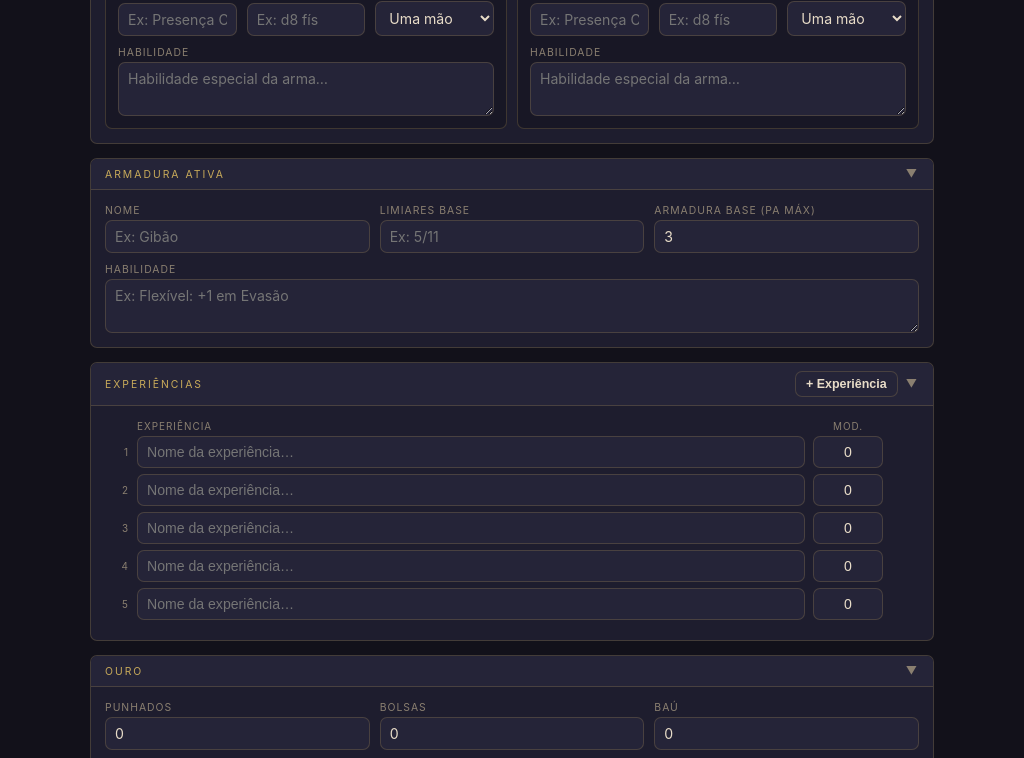
Test: FormScreen — experiências › + Experiência adiciona linha extra marcada com ★
This screenshot has width=1024, height=758.
(page scrolled)
Click the button "+ Experiência": (846, 384) x1=795 y1=371 x2=898 y2=397
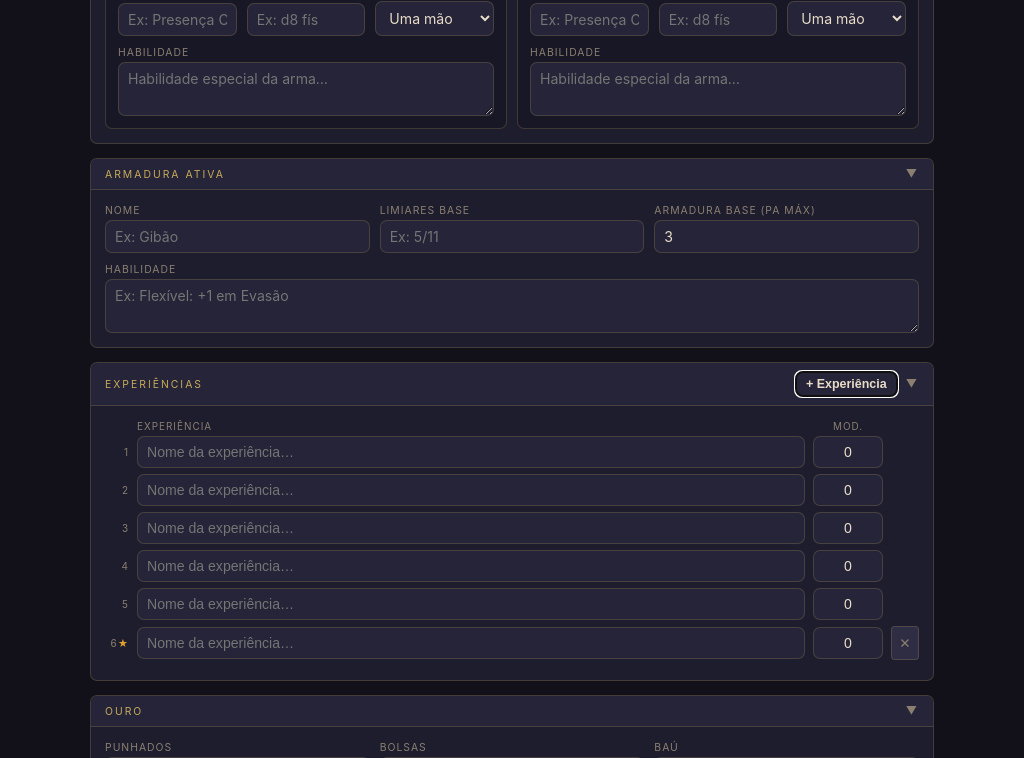
Expected: the number of fields with placeholder "Nome da experiência…" is 6, x1=137 y1=436 x2=805 y2=468; x1=137 y1=474 x2=805 y2=506; x1=137 y1=512 x2=805 y2=544; x1=137 y1=550 x2=805 y2=582; x1=137 y1=588 x2=805 y2=620; x1=137 y1=627 x2=805 y2=659
Expected: the text "★" is shown, x1=118 y1=637 x2=129 y2=649
